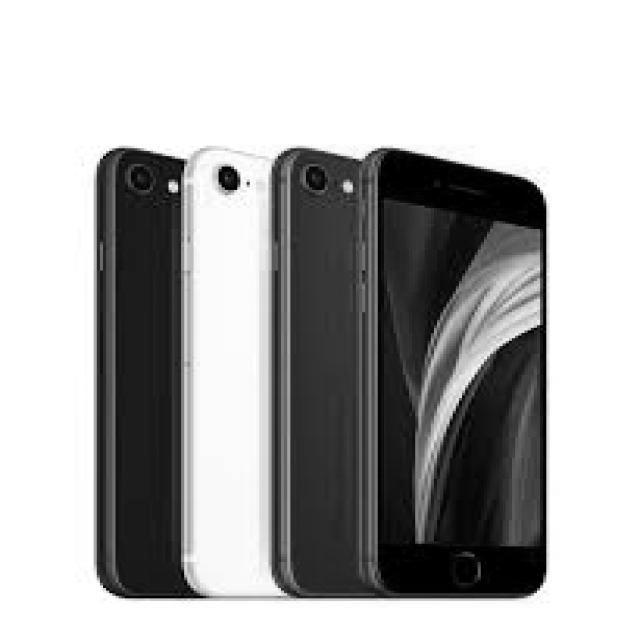fake: (356, 142, 556, 605), (270, 140, 361, 603), (177, 140, 268, 603), (88, 142, 179, 605)
